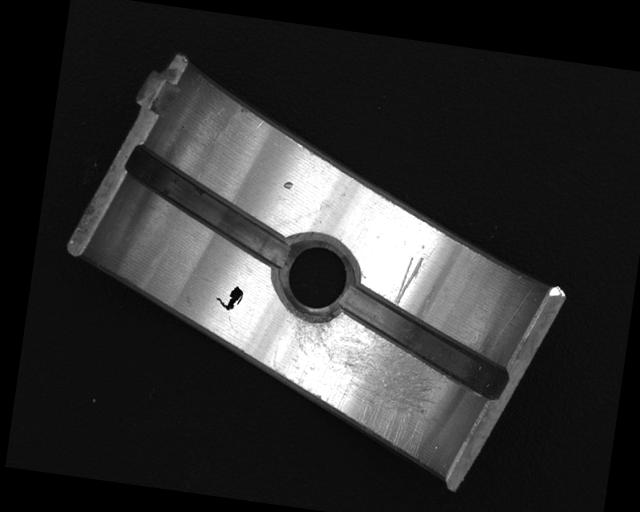blot: (214, 282, 245, 312)
bruise: (281, 179, 294, 191)
gap: (115, 144, 304, 271), (333, 284, 516, 400)
hole: (268, 232, 363, 328)
nick: (394, 252, 426, 310)
scratch: (269, 313, 444, 460)
